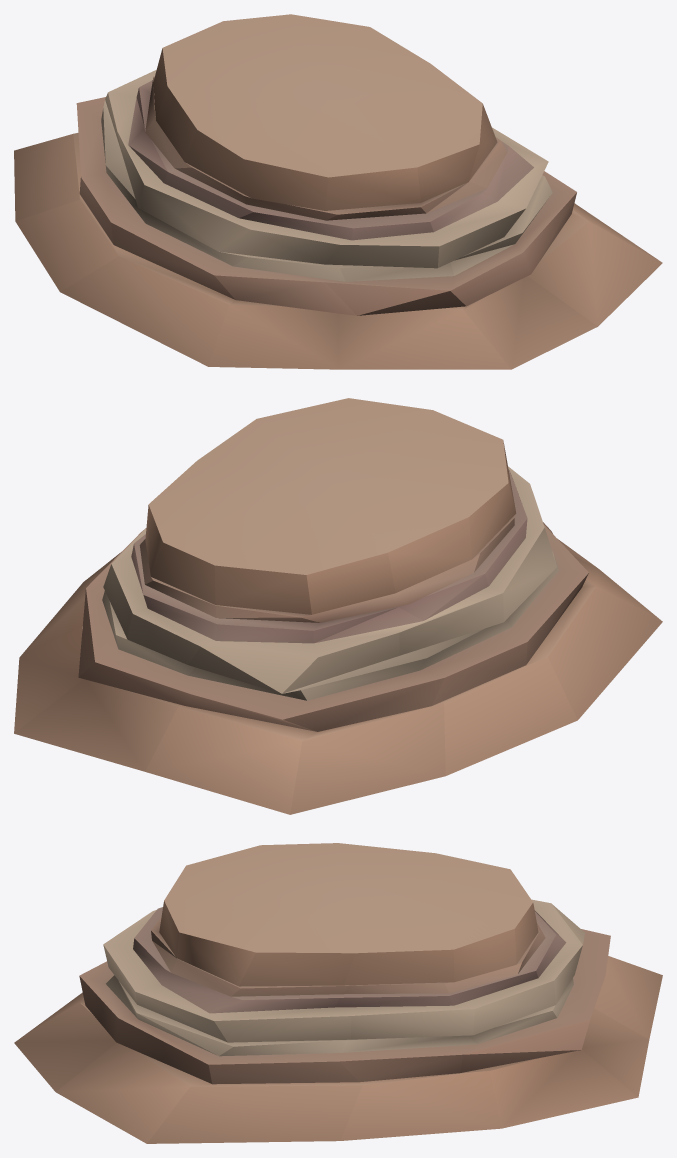
Rendered from mesa_c_lo.glb.
The picture shows the model from 3 angles, top to bottom: view 1: azimuth 30°, elevation 25°; view 2: azimuth 150°, elevation 25°; view 3: azimuth 270°, elevation 25°; orthographic projection. The views are drawn at different scales.
Parts seen in each view (by area): view 1: mesa_c_lo; view 2: mesa_c_lo; view 3: mesa_c_lo.
Part boxes in pixels (bbox=[...]): mesa_c_lo: bbox=[14, 14, 662, 369]; mesa_c_lo: bbox=[14, 398, 662, 814]; mesa_c_lo: bbox=[14, 843, 662, 1143].
Bounding box in the file's own units: 31.01 × 9.36 × 38.86.
